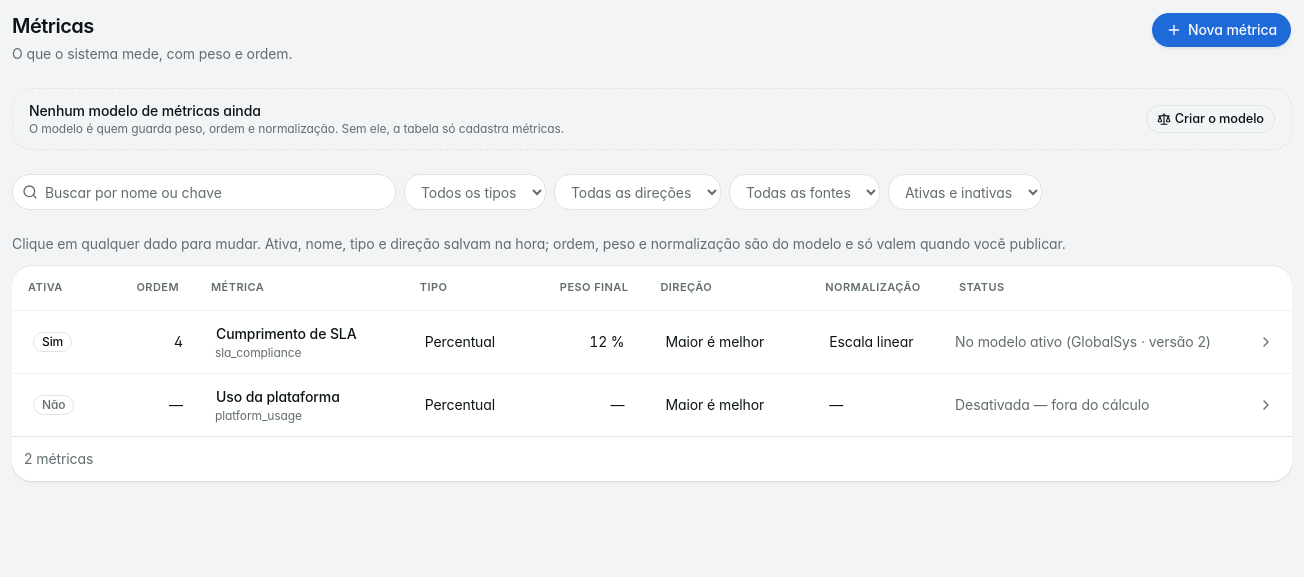
MetricsPage (/metrics) › busca e filtros vão para a query string da API
Expected: the table named "Métricas da organização" is shown, [12, 266, 1292, 436]
In the search field labelled "Buscar por nome ou chave": (204, 192) [12, 174, 396, 210], type "uso"
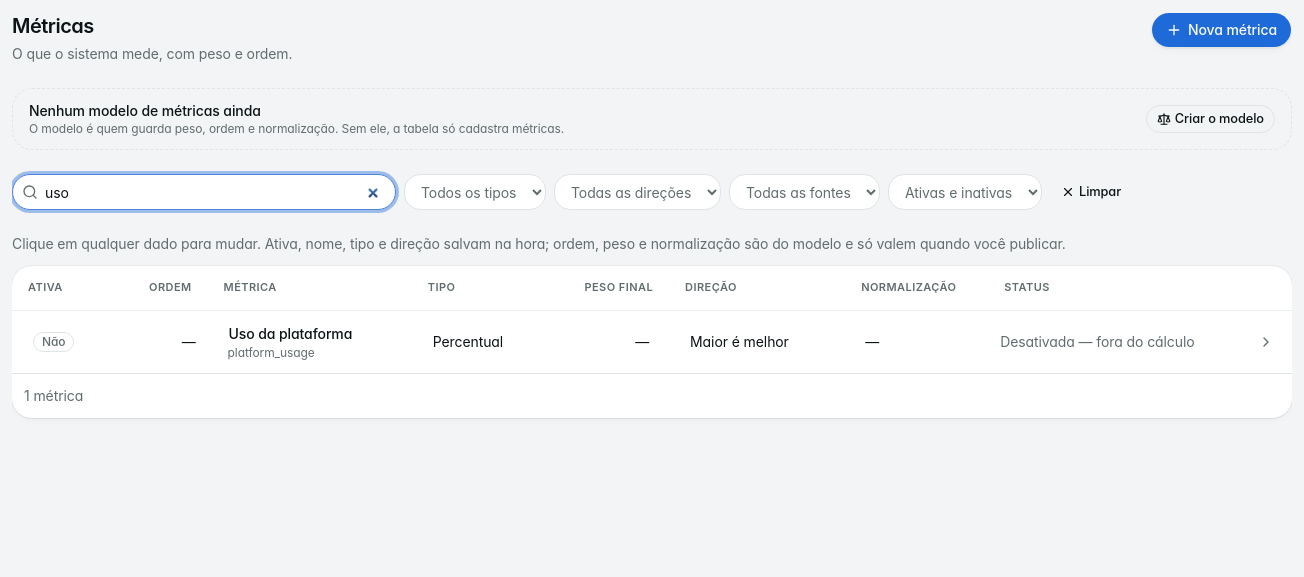
Select "Só ativas" in the 4th dropdown named "Situação": (965, 192) [888, 174, 1042, 210]
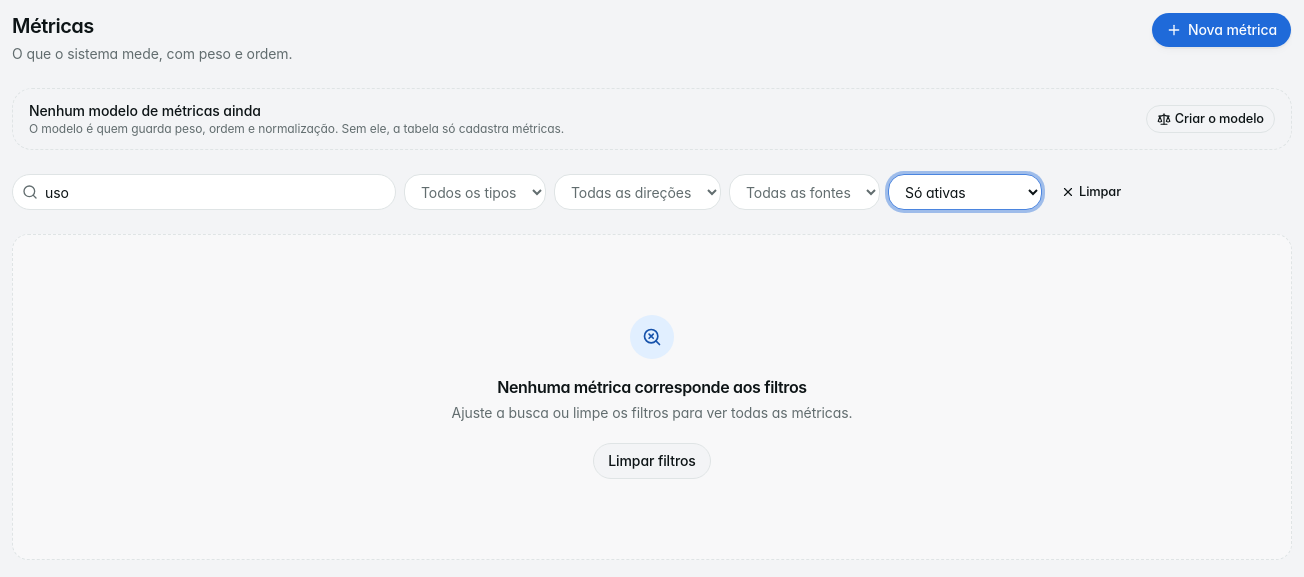
Expected: the heading "Nenhuma métrica corresponde aos filtros" is shown, [497, 375, 807, 399]
Click the button "Limpar filtros": (652, 461) [593, 443, 711, 479]
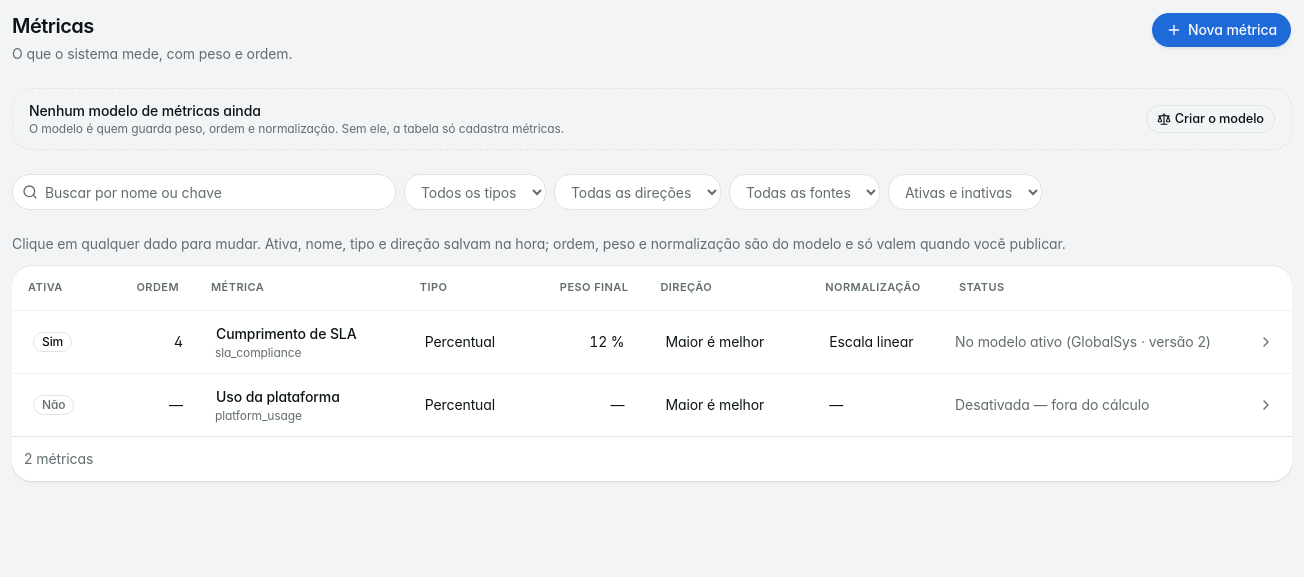
Expected: the link named "Abrir Cumprimento de SLA" is shown, [1258, 334, 1274, 350]
